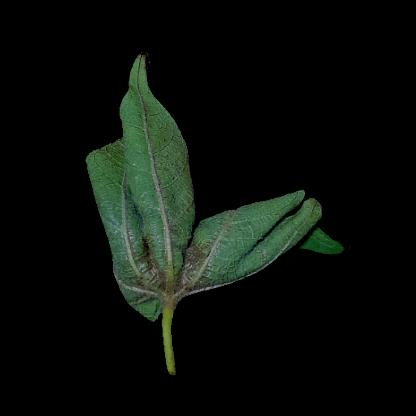curl_stage2: (116, 134, 185, 229), (178, 233, 241, 283), (116, 235, 159, 306), (217, 215, 277, 257), (280, 201, 324, 247), (117, 104, 174, 133)
